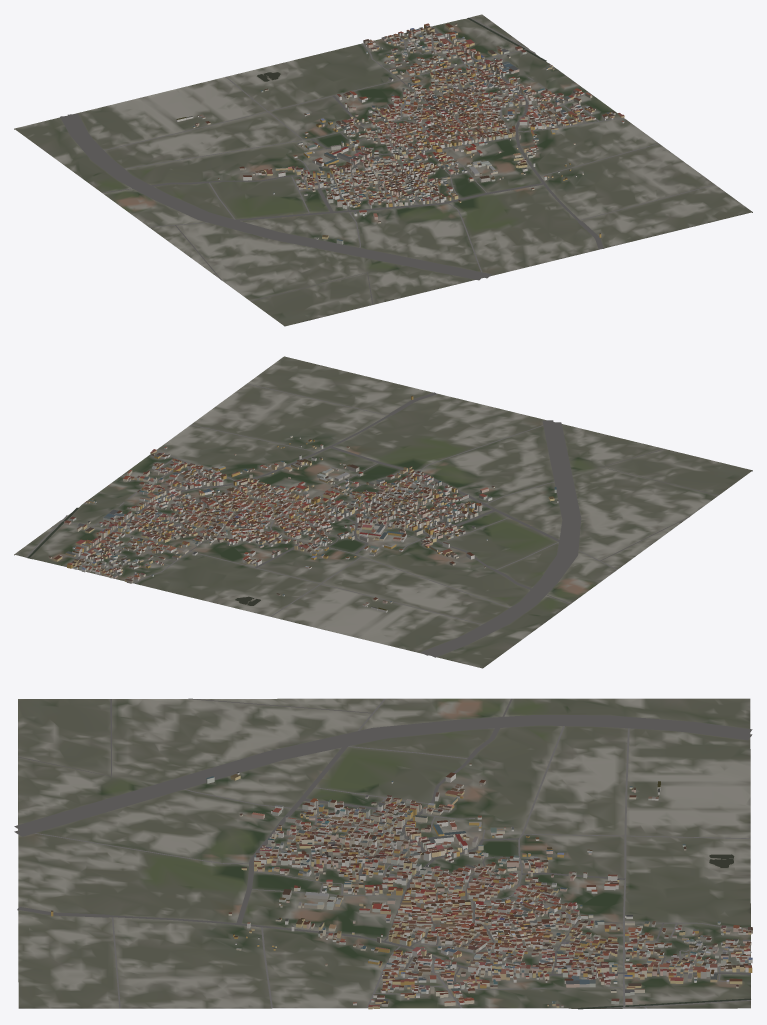
The picture shows the model from 3 angles, top to bottom: view 1: azimuth 30°, elevation 25°; view 2: azimuth 150°, elevation 25°; view 3: azimuth 270°, elevation 25°; orthographic projection. The views are drawn at different scales.
Parts seen in each view (by area): view 1: ground, buildings, roads; view 2: ground, buildings, roads; view 3: ground, buildings, roads, water.
Part boxes in pixels (box(x1,y1,x2,y2)): ground: box(14, 14, 752, 326); buildings: box(176, 23, 624, 244); roads: box(60, 17, 715, 304); ground: box(14, 356, 752, 668); buildings: box(48, 396, 558, 612); roads: box(26, 383, 718, 657); ground: box(18, 698, 750, 1008); buildings: box(51, 763, 752, 1009); roads: box(14, 698, 752, 1008); water: box(577, 854, 750, 1009).
Bounding box in the file's own units: 1407 × 20.74 × 1414.
